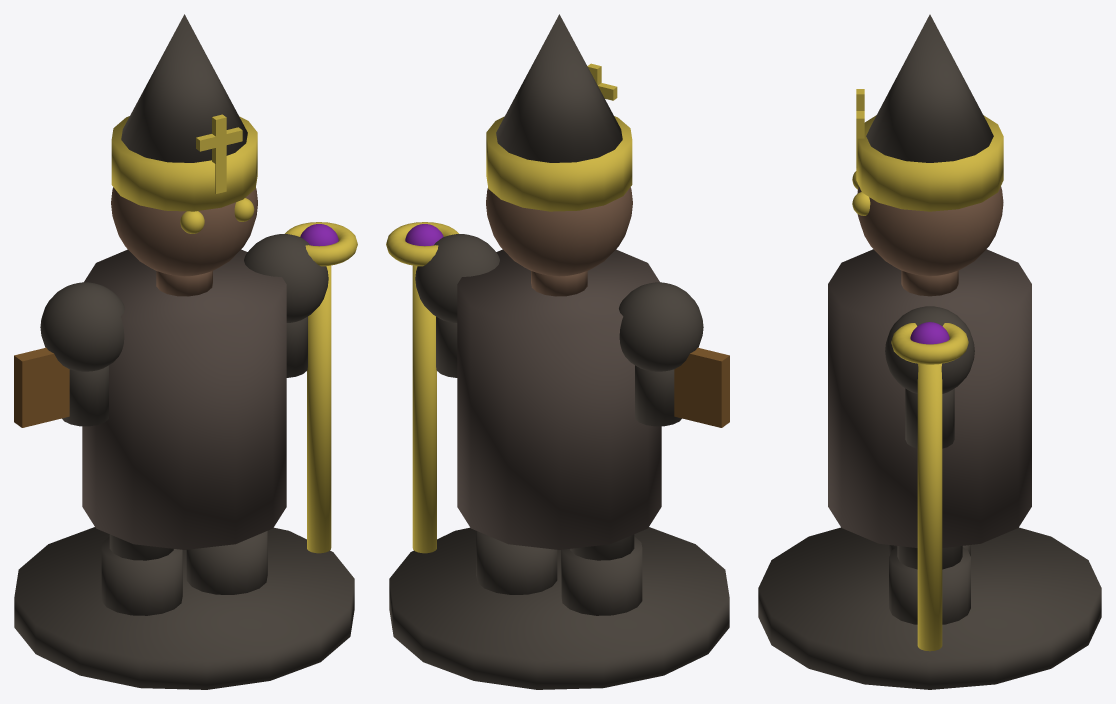
The model's file is Tuongd.glb.
The picture shows the model from 3 angles, left to right: view 1: azimuth 30°, elevation 25°; view 2: azimuth 150°, elevation 25°; view 3: azimuth 270°, elevation 25°; orthographic projection.
Visible parts, largest first — view 1: B_Bishop; view 2: B_Bishop; view 3: B_Bishop.
Boxes of the visible parts, x1,y1,x2,y2 form: B_Bishop: (14,14,357,689); B_Bishop: (386,14,729,689); B_Bishop: (758,14,1101,689).
Bounding box in the file's own units: 0.945 × 1.63 × 0.84.
